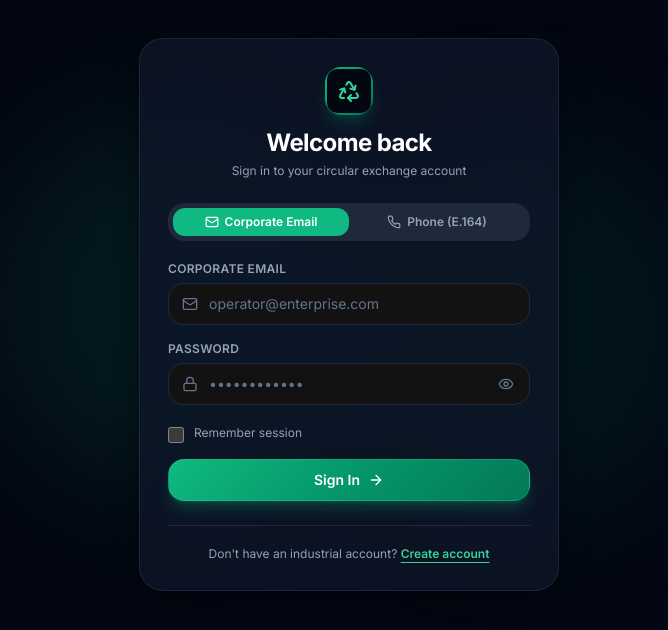
Test: <LoginPage> › submitting empty form displays validation errors
Click the button "Sign In".
click(349, 480)  # box [168,458,530,500]
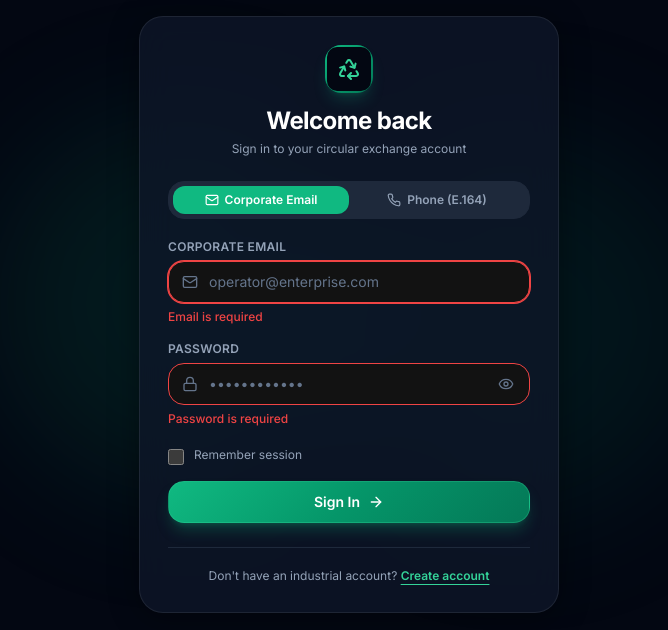
Expected: the text "Email is required" is shown, [168,308,263,324]
Expected: the text "Password is required" is shown, [168,410,288,426]
